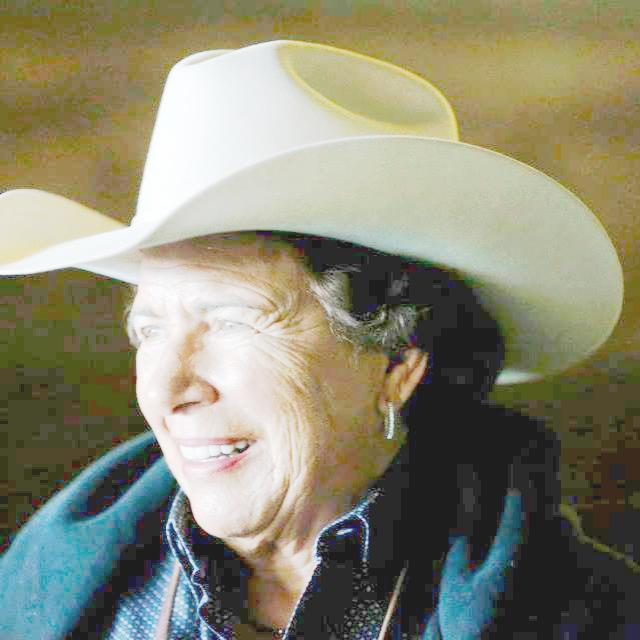TOPI: (2, 26, 628, 378)
